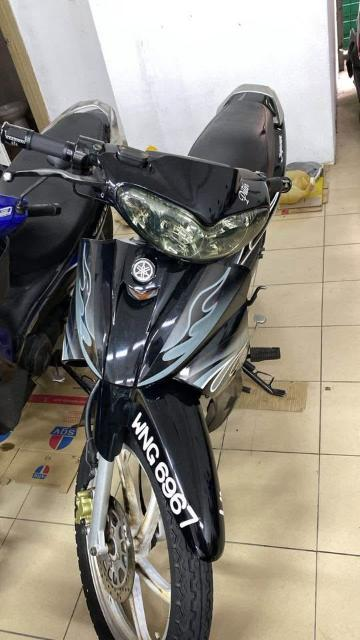License_Plate: (131, 412, 204, 544)
motorcycle: (2, 84, 293, 640)
